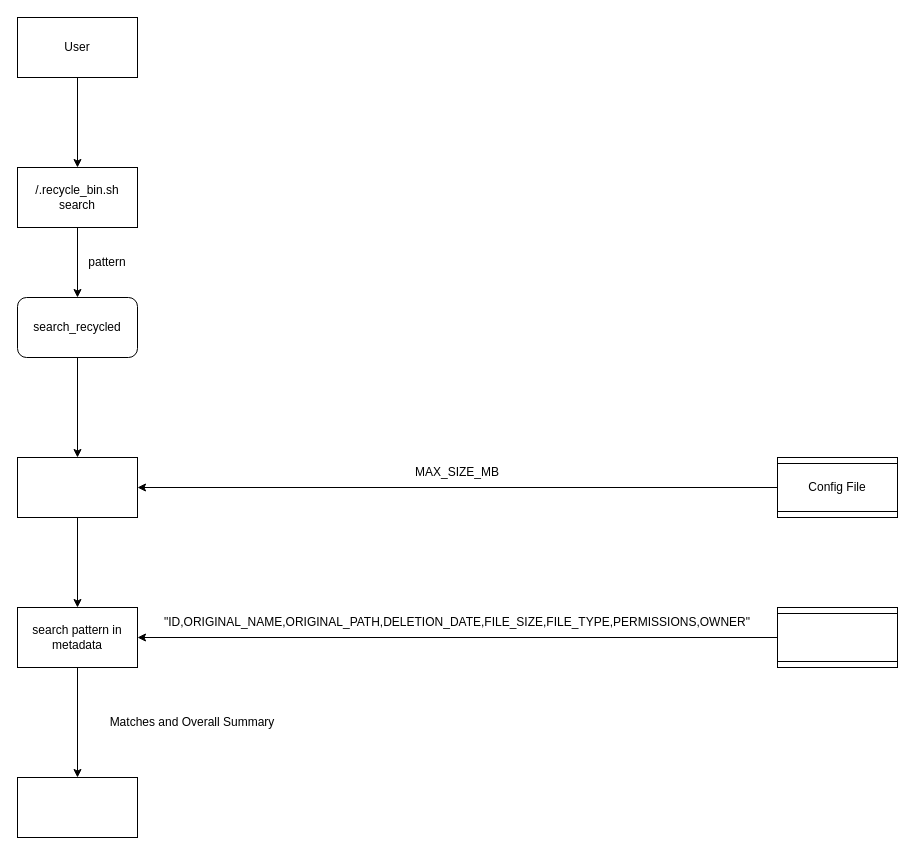
Image size: 915x855. Some labels were removed from this diagram. Each missing label, with the centre of its shape:
"Check size limit" belongs at pixel 77 487.
"Metadata File" belongs at pixel 837 637.
"Terminal" belongs at pixel 77 807.
